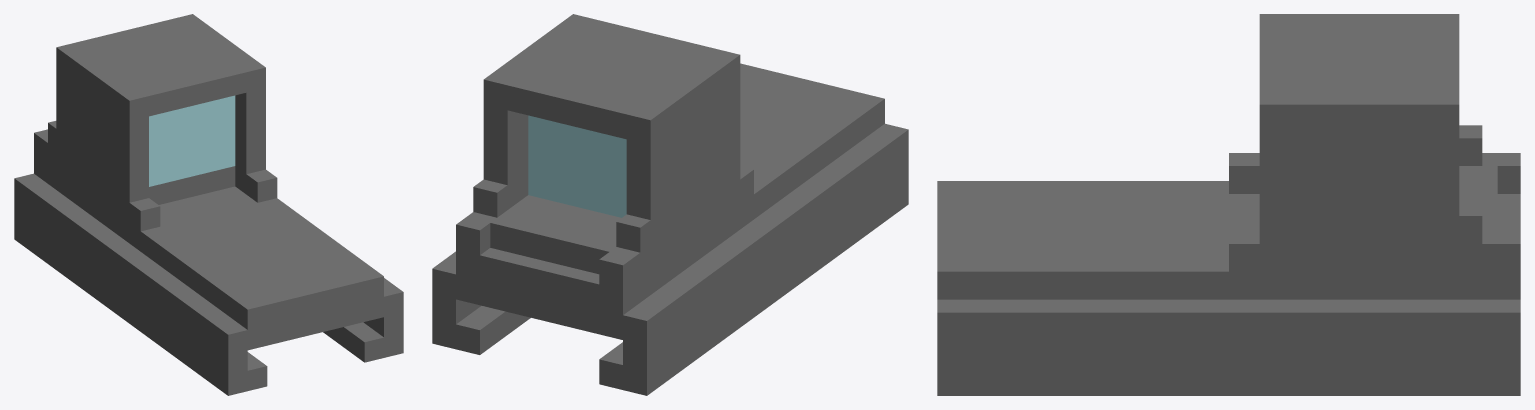
Rendered from assault_rifle_holoSight.fbx.
3 views of the same model, side by side, from view 1: azimuth 30°, elevation 25°; view 2: azimuth 150°, elevation 25°; view 3: azimuth 270°, elevation 25° (orthographic). The views are drawn at different scales.
Visible parts, largest first — view 1: assault_rifle_holoSight; view 2: assault_rifle_holoSight; view 3: assault_rifle_holoSight.
Part boxes in pixels (x1,y1,x2,y2): assault_rifle_holoSight: (14,14,403,395); assault_rifle_holoSight: (432,14,908,395); assault_rifle_holoSight: (937,14,1520,395).
Bounding box in the file's own units: 10.8 × 12 × 22.8.
